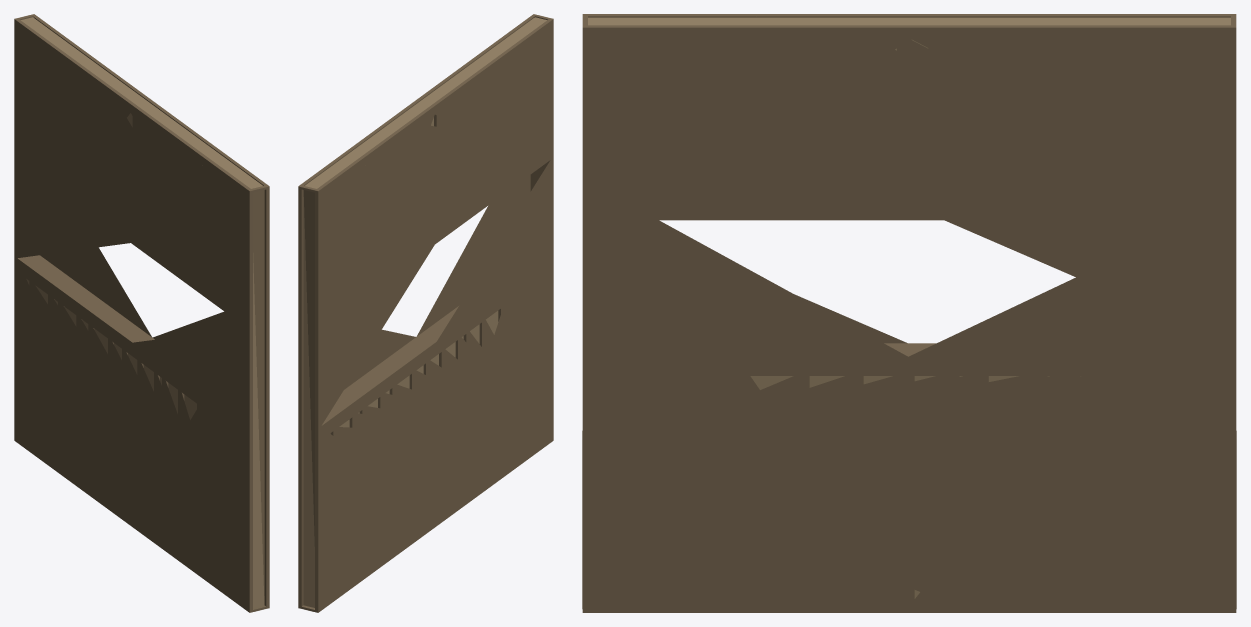
Rendered from Window.fbx.
3 renders of one model, left to right at view 1: azimuth 30°, elevation 25°; view 2: azimuth 150°, elevation 25°; view 3: azimuth 270°, elevation 25°, orthographic. The views are drawn at different scales.
Parts seen in each view (by area): view 1: Details, Wall; view 2: Details, Wall; view 3: Details, Wall.
Boxes of the visible parts, bbox=[...] form: Details: bbox=[14, 14, 269, 612]; Wall: bbox=[21, 17, 264, 607]; Details: bbox=[298, 14, 553, 612]; Wall: bbox=[303, 17, 546, 607]; Details: bbox=[582, 14, 1236, 612]; Wall: bbox=[588, 17, 1230, 598].
Bounding box in the file's own units: 0.6003 × 12.06 × 12.21.
